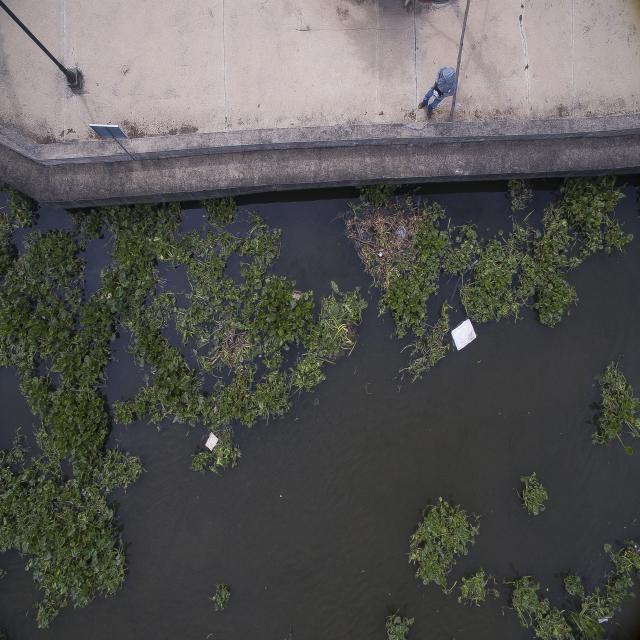plastic: (444, 318, 487, 354), (196, 421, 230, 460), (590, 599, 616, 630), (394, 223, 418, 249), (375, 244, 389, 264)
